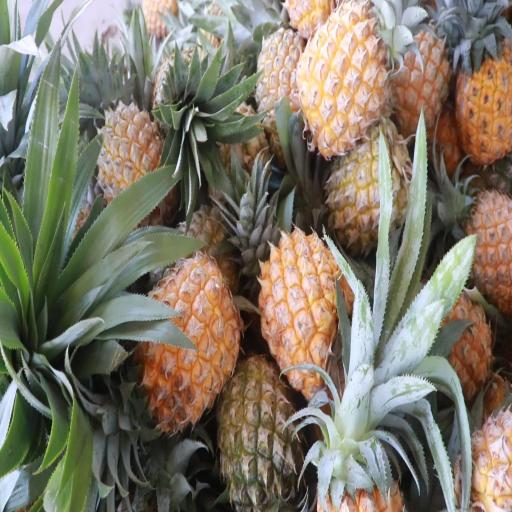------------------------------: (327, 130, 412, 252)
Pineapple - v8 v1: (132, 257, 238, 422), (261, 227, 352, 386), (297, 6, 386, 148), (440, 188, 511, 301), (454, 38, 512, 166), (390, 24, 452, 132)
